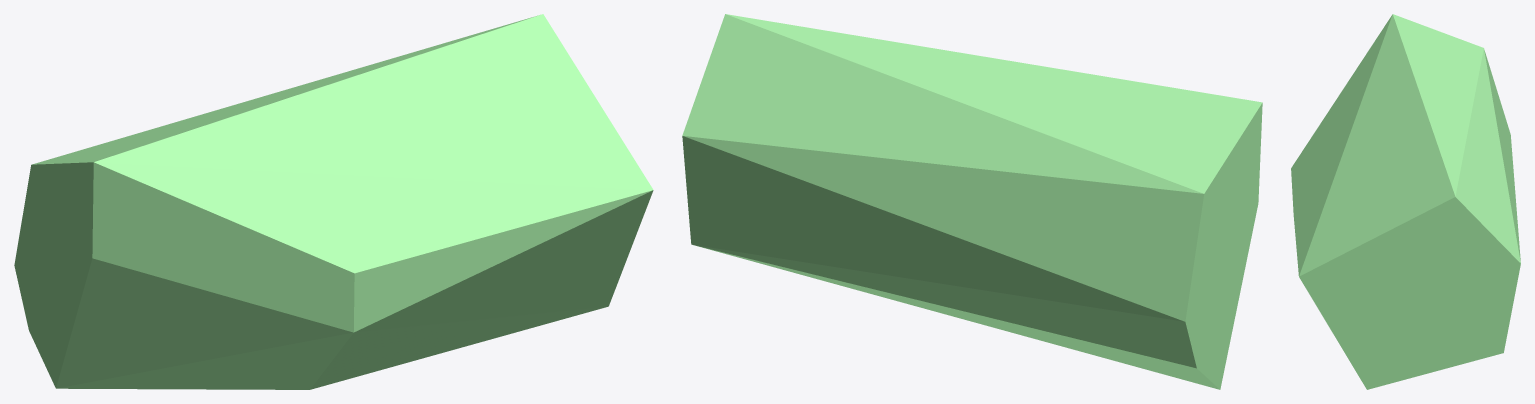
Rendered from dxxx_Lp11_respondable_PSM1_coll_1.dae.
3 renders of one model, left to right at view 1: azimuth 30°, elevation 25°; view 2: azimuth 150°, elevation 25°; view 3: azimuth 270°, elevation 25°, orthographic. The views are drawn at different scales.
Visible parts, largest first — view 1: Node_000001D818CB9710; view 2: Node_000001D818CB9710; view 3: Node_000001D818CB9710.
Part boxes in pixels (x1,y1,x2,y2): Node_000001D818CB9710: [14, 14, 653, 389]; Node_000001D818CB9710: [682, 14, 1262, 389]; Node_000001D818CB9710: [1291, 14, 1520, 389].
Size of the model in its own units: 0.0345 by 0.0171 by 0.0181.
